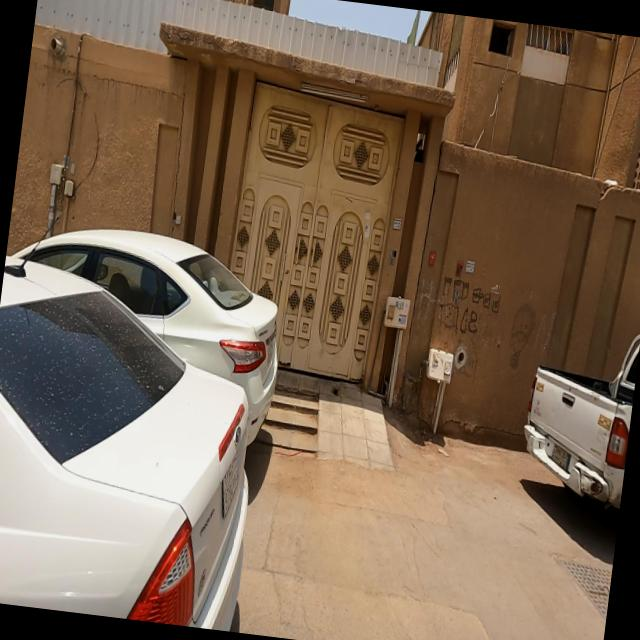Graffiti: (434, 272, 504, 340), (505, 301, 556, 372), (461, 339, 482, 378)
